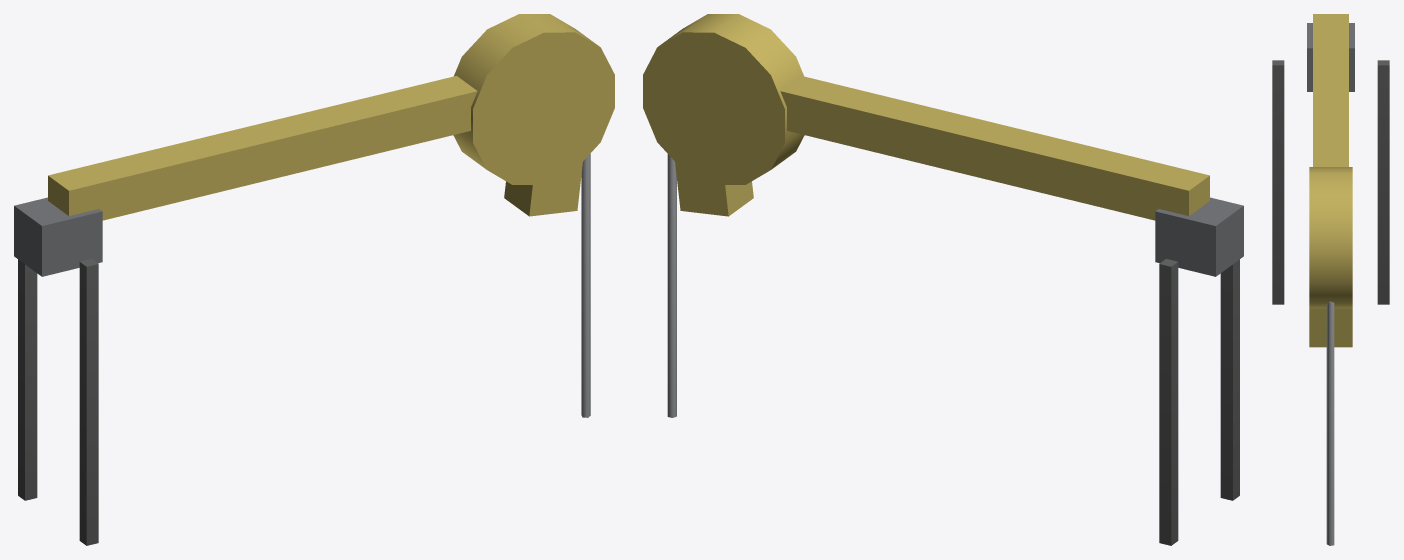
Rendered from m_derrick_edcbbbb7.glb.
3 renders of one model, left to right at view 1: azimuth 30°, elevation 25°; view 2: azimuth 150°, elevation 25°; view 3: azimuth 270°, elevation 25°, orthographic. The views are drawn at different scales.
Parts seen in each view (by area): view 1: mesh; view 2: mesh; view 3: mesh.
Part boxes in pixels (x1,y1,x2,y2): mesh: (14,14,614,545); mesh: (643,14,1243,545); mesh: (1272,14,1389,545).
Bounding box in the file's own units: 47.35 × 32 × 9.8.
